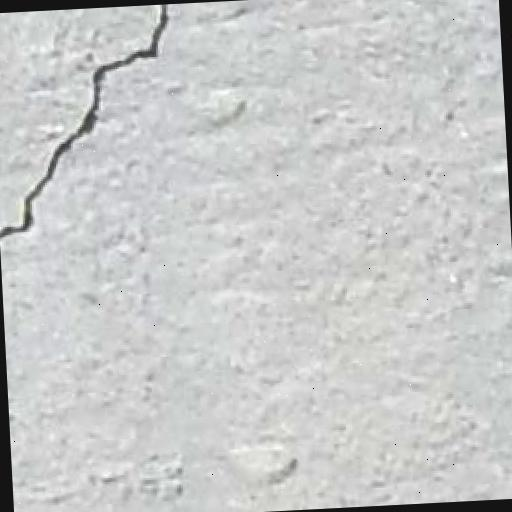spalling: (4, 7, 181, 260)
